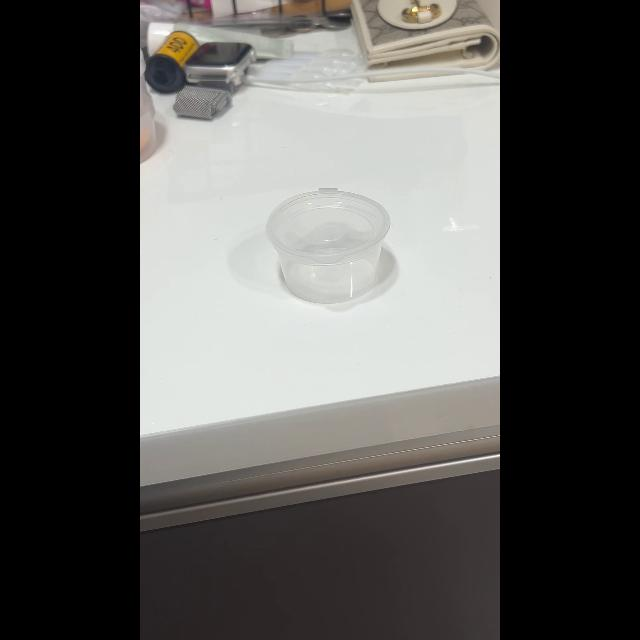clean: (270, 182, 394, 312)
